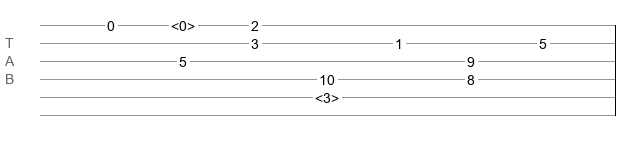0: (107, 18, 115, 28)
1: (395, 36, 403, 46)
10: (319, 72, 335, 82)
2: (251, 18, 259, 28)
3: (251, 36, 259, 46)
5: (179, 54, 187, 64), (539, 36, 547, 46)
8: (467, 72, 475, 82)
9: (467, 54, 475, 64)
harmonic: (171, 18, 195, 28), (315, 90, 339, 100)
